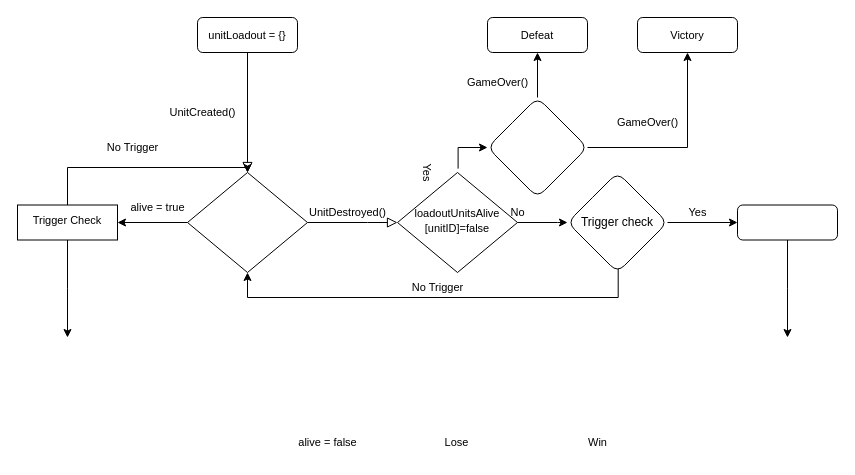
This 855x475 diagram has some shape labels left out. Here are the shapes that lost their labels. From the top down, the centre of each, then its label:
(x=537, y=147): Win / Lose
(x=247, y=222): loadoutUnitsAlive = {}
(x=787, y=222): Trigger
